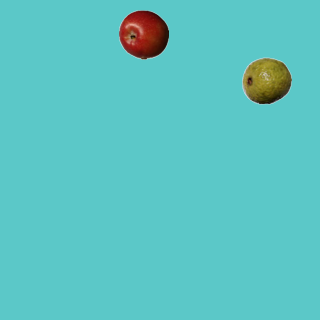Apple Braeburn: (118, 9, 168, 59)
Guava: (241, 55, 291, 105)
